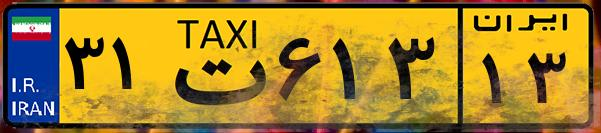1: (330, 28, 385, 110), (475, 38, 525, 113), (110, 28, 158, 98)
3: (385, 28, 445, 110), (57, 26, 110, 100), (525, 38, 570, 115)
6: (270, 28, 330, 110)
ت: (158, 12, 270, 120)
